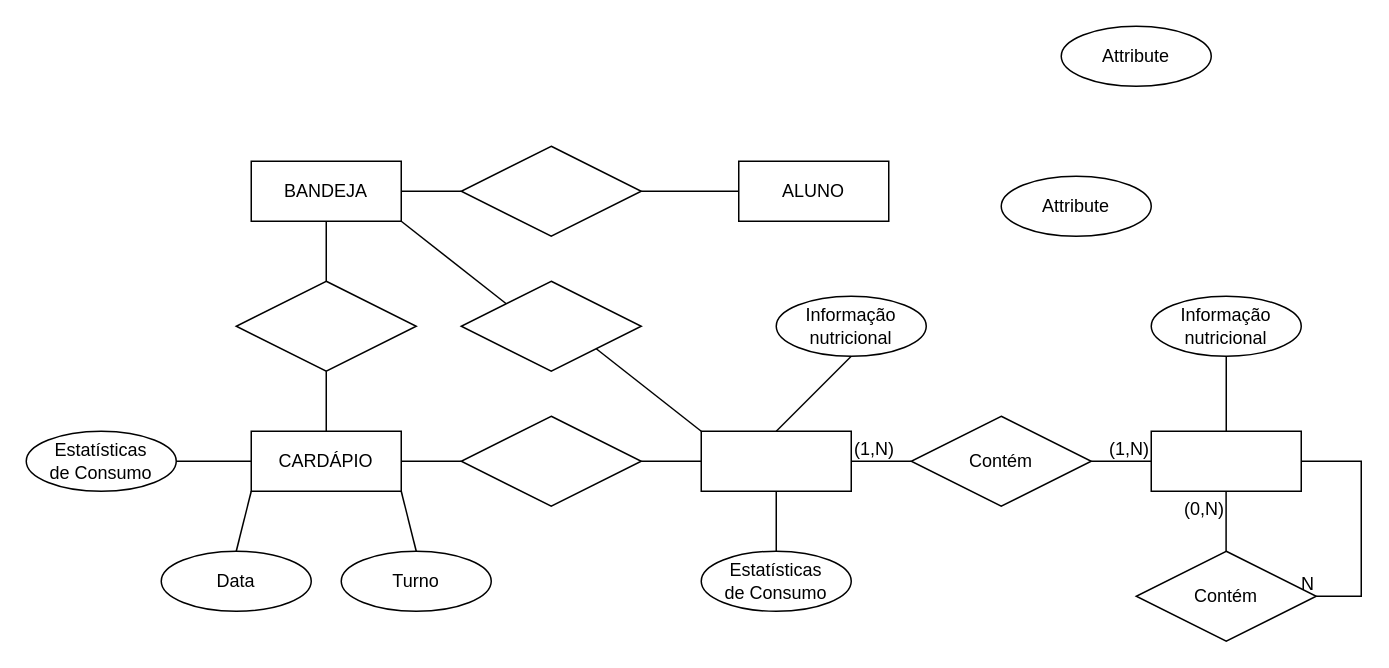
Image size: 1389x668. Some labels were removed from this diagram. Each missing label, with the centre of its shape:
Escolhe: [550,325]
Inclui: [550,460]
INGREDIENTE: [1225,460]
Monta: [550,190]
Observa: [325,325]
PORÇÃO: [775,460]
